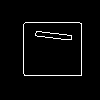I: (25, 25, 73, 45)
